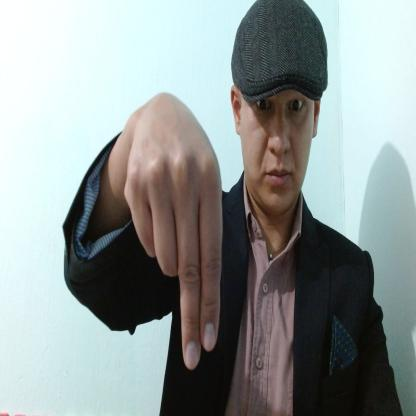N: (124, 94, 222, 369)
